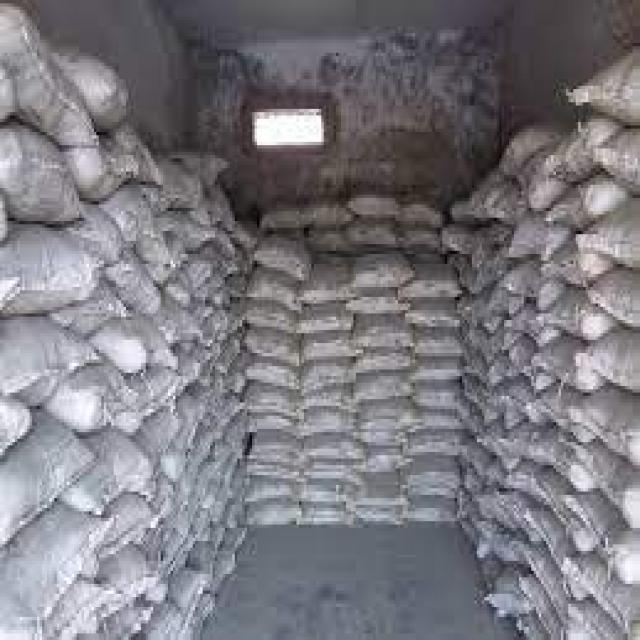cement_bag: (19, 511, 107, 617), (6, 439, 96, 542), (73, 430, 161, 519), (565, 553, 640, 640), (5, 334, 89, 400), (580, 438, 640, 524), (34, 67, 98, 147), (99, 313, 185, 370), (546, 109, 626, 170), (532, 505, 582, 602), (10, 141, 75, 215), (121, 371, 190, 440), (132, 405, 190, 487), (577, 384, 639, 458), (530, 424, 592, 498), (57, 43, 135, 101), (13, 246, 89, 303), (497, 119, 560, 184), (530, 331, 599, 390), (107, 491, 165, 559), (111, 179, 169, 245), (99, 543, 165, 599), (499, 258, 563, 313), (512, 208, 574, 263), (546, 285, 603, 344), (520, 144, 569, 212), (75, 368, 131, 426), (550, 175, 615, 223), (76, 137, 141, 185), (597, 323, 640, 394), (362, 394, 421, 442), (176, 142, 234, 189), (120, 253, 162, 316), (172, 256, 219, 308), (170, 564, 209, 623), (481, 420, 522, 476), (503, 490, 542, 548), (465, 172, 514, 217), (195, 447, 232, 506), (266, 202, 341, 231), (359, 447, 415, 481), (397, 197, 447, 232), (355, 259, 408, 291), (252, 273, 297, 310), (465, 326, 503, 369), (253, 439, 305, 470), (302, 365, 350, 398), (409, 466, 458, 498), (300, 281, 356, 309), (250, 303, 296, 337), (263, 248, 311, 280), (304, 481, 354, 511), (300, 308, 349, 338), (359, 376, 409, 405), (307, 409, 356, 437), (248, 480, 298, 507), (353, 227, 401, 255), (249, 391, 300, 417), (409, 501, 457, 528), (418, 384, 461, 414), (355, 192, 397, 222), (315, 437, 358, 466), (409, 282, 458, 304), (359, 327, 409, 347), (419, 338, 461, 358), (421, 412, 463, 430)
